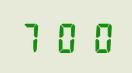seven: (18, 20, 48, 53)
zero: (50, 20, 80, 53), (81, 20, 111, 53)
